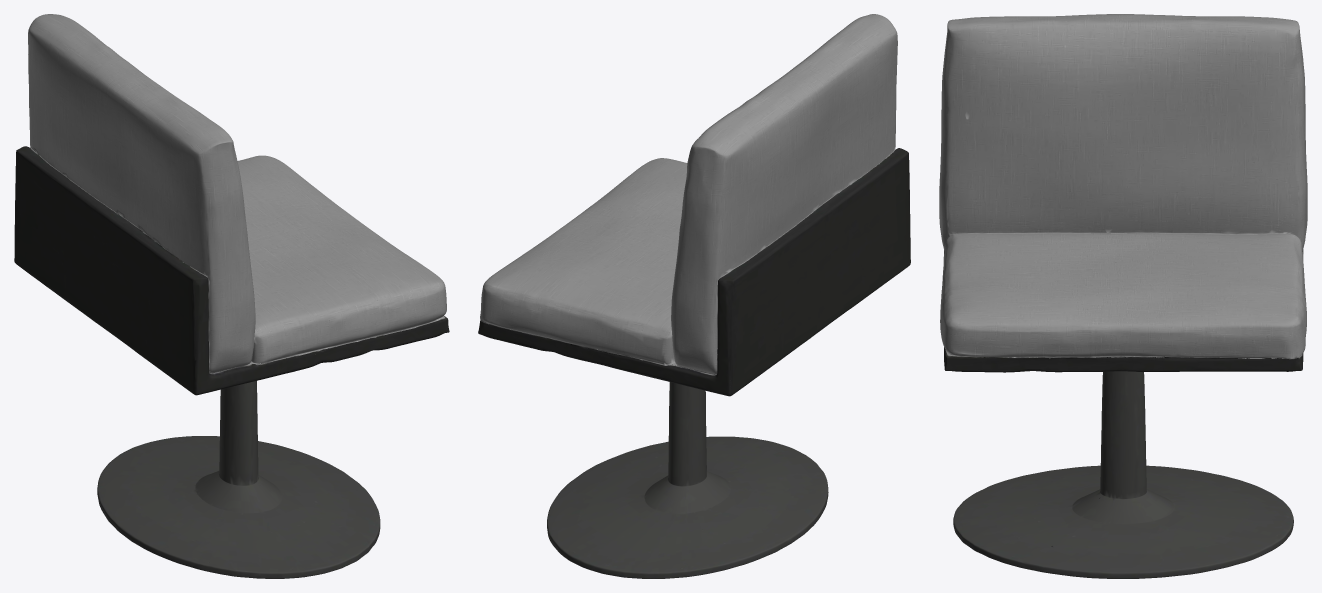
3 views of the same model, side by side, from view 1: azimuth 30°, elevation 25°; view 2: azimuth 150°, elevation 25°; view 3: azimuth 270°, elevation 25° (orthographic).
Visible parts, largest first — view 1: tripo_node_cc690995-b463-4bb2-8202-a4ebdbe5480a; view 2: tripo_node_cc690995-b463-4bb2-8202-a4ebdbe5480a; view 3: tripo_node_cc690995-b463-4bb2-8202-a4ebdbe5480a.
Boxes of the visible parts, x1,y1,x2,y2 form: tripo_node_cc690995-b463-4bb2-8202-a4ebdbe5480a: [14, 14, 449, 578]; tripo_node_cc690995-b463-4bb2-8202-a4ebdbe5480a: [478, 14, 910, 578]; tripo_node_cc690995-b463-4bb2-8202-a4ebdbe5480a: [939, 14, 1307, 578].
Bounding box in the file's own units: 0.48 × 0.82 × 0.6.
2 materials, 2 textured.
